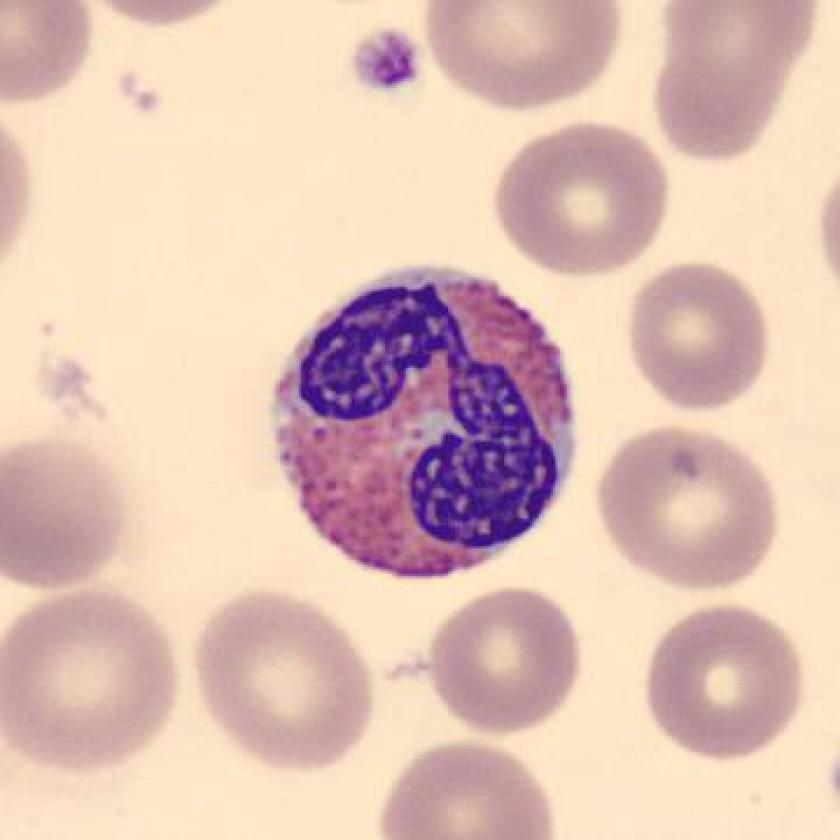eosinophil: (267, 249, 589, 594)
